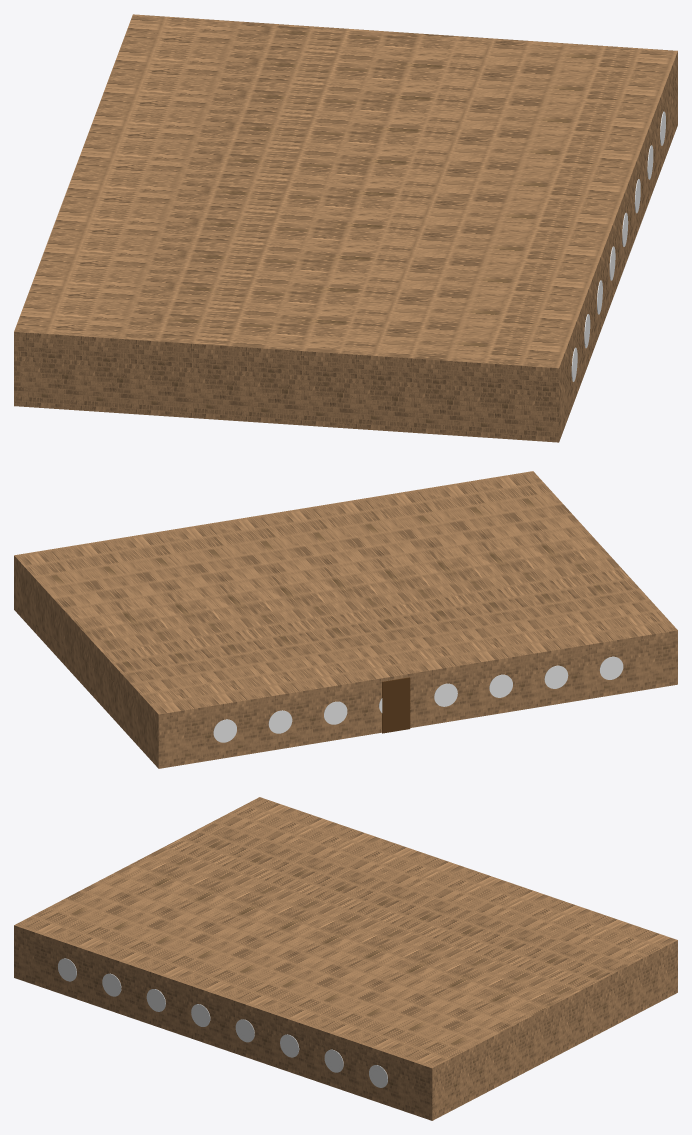
File: bld_mlmuzf2r_r53ld55.glb
3 views of the same model, one above another, from view 1: azimuth 30°, elevation 25°; view 2: azimuth 150°, elevation 25°; view 3: azimuth 270°, elevation 25° (orthographic). The views are drawn at different scales.
Parts seen in each view (by area): view 1: building-building-1771106333077; view 2: building-building-1771106333077; view 3: building-building-1771106333077.
Boxes of the visible parts, left/top/right/bottom form: building-building-1771106333077: left=14, top=14, right=677, bottom=442; building-building-1771106333077: left=14, top=471, right=677, bottom=768; building-building-1771106333077: left=14, top=797, right=677, bottom=1120.
Bounding box in the file's own units: 35.51 × 3.24 × 36.72.
5 materials, 1 textured.
